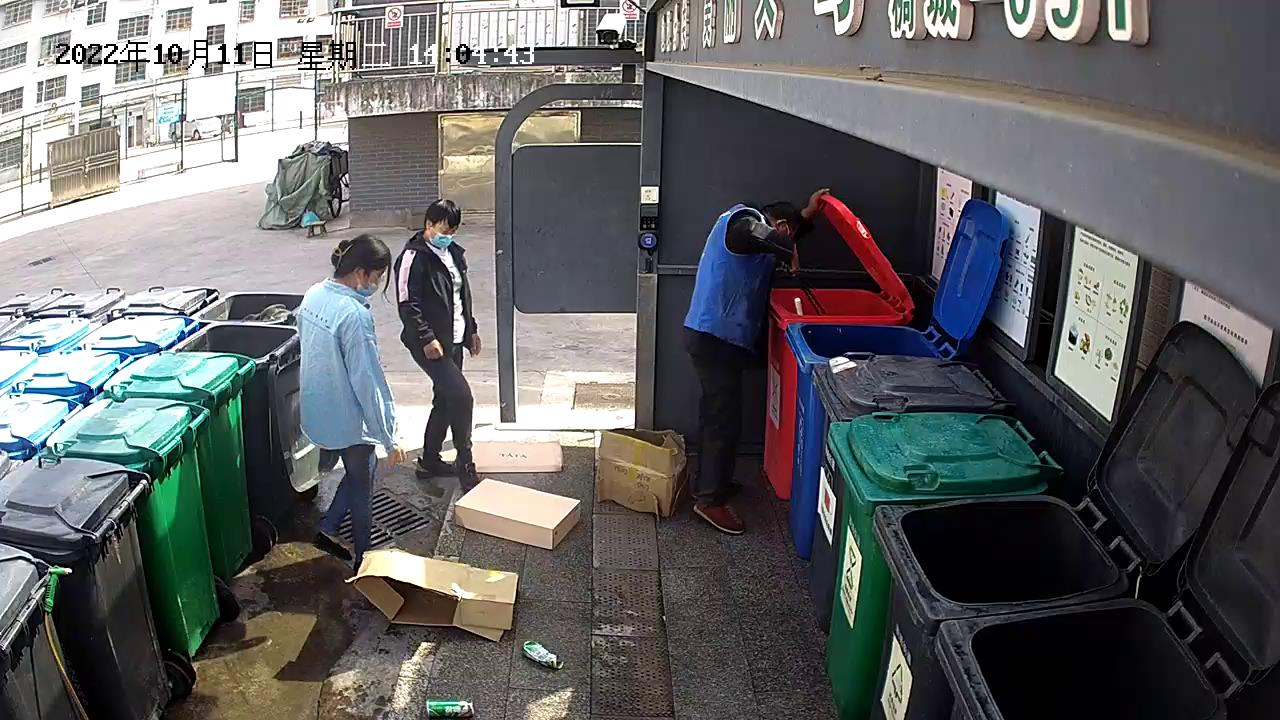lvzhipin: (519, 636, 566, 673), (423, 695, 477, 720)
person: (391, 197, 483, 497)
worker: (679, 186, 835, 538), (293, 230, 408, 579)
zhizhipin: (351, 545, 521, 645), (451, 476, 585, 553), (595, 425, 688, 522), (451, 436, 565, 475)
